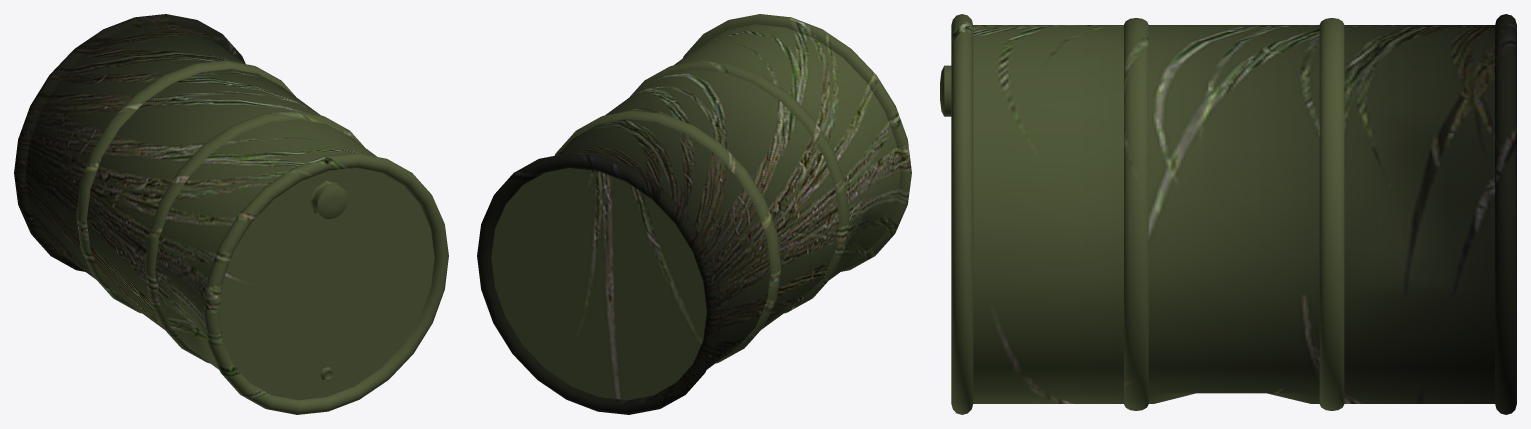
The model's file is Barrel.fbx.
The picture shows the model from 3 angles, left to right: view 1: azimuth 30°, elevation 25°; view 2: azimuth 150°, elevation 25°; view 3: azimuth 270°, elevation 25°; orthographic projection. The views are drawn at different scales.
Visible parts, largest first — view 1: Barrel_LOD0; view 2: Barrel_LOD0; view 3: Barrel_LOD0.
Boxes of the visible parts, x1,y1,x2,y2 form: Barrel_LOD0: (14,14,448,414); Barrel_LOD0: (477,14,911,414); Barrel_LOD0: (940,14,1516,414).
Size of what is drawn, in the model's own units: 0.7403 by 0.7403 by 1.06.
